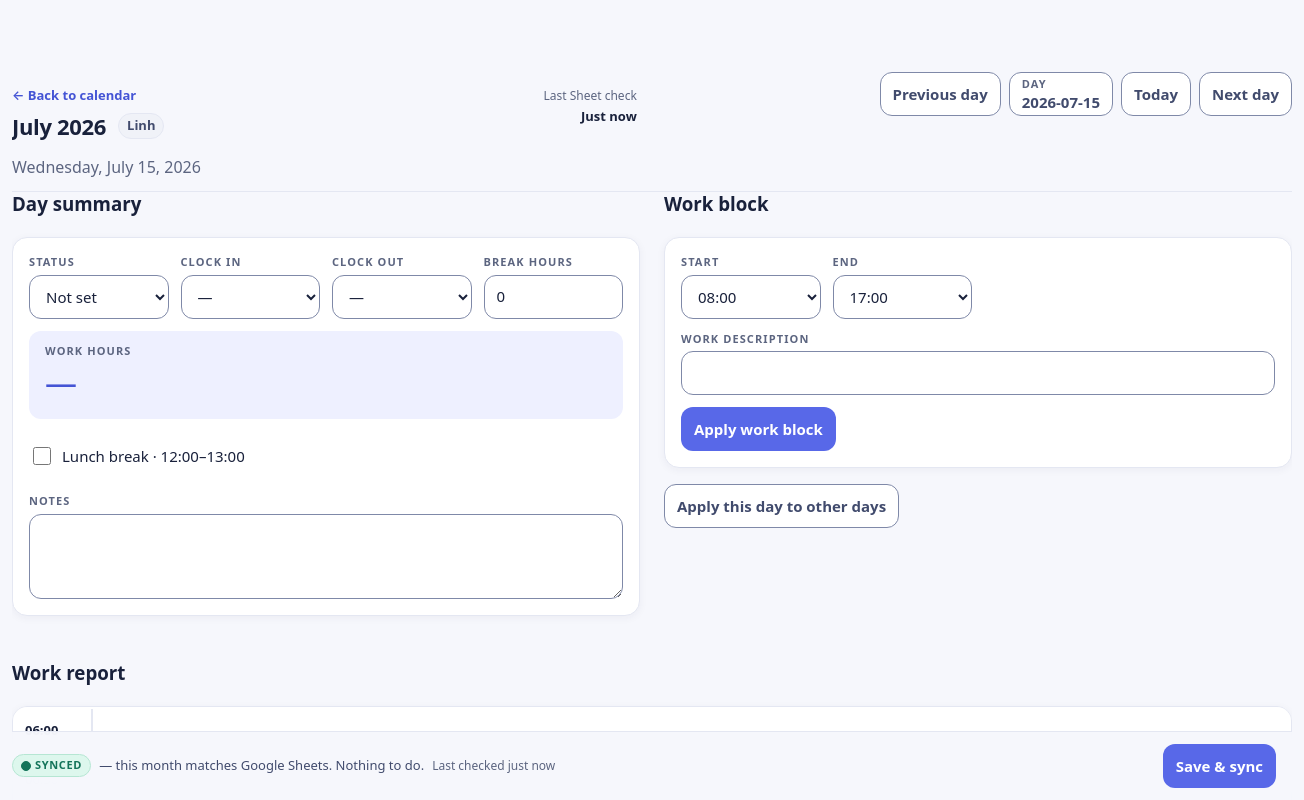
AttendanceEditor › moves to the next and previous day
This screenshot has width=1304, height=800.
Expected: the button "Save & sync" is shown, [1163,744,1276,788]
Click the button "Next day" at (1245, 94), box [1199,72,1292,116]
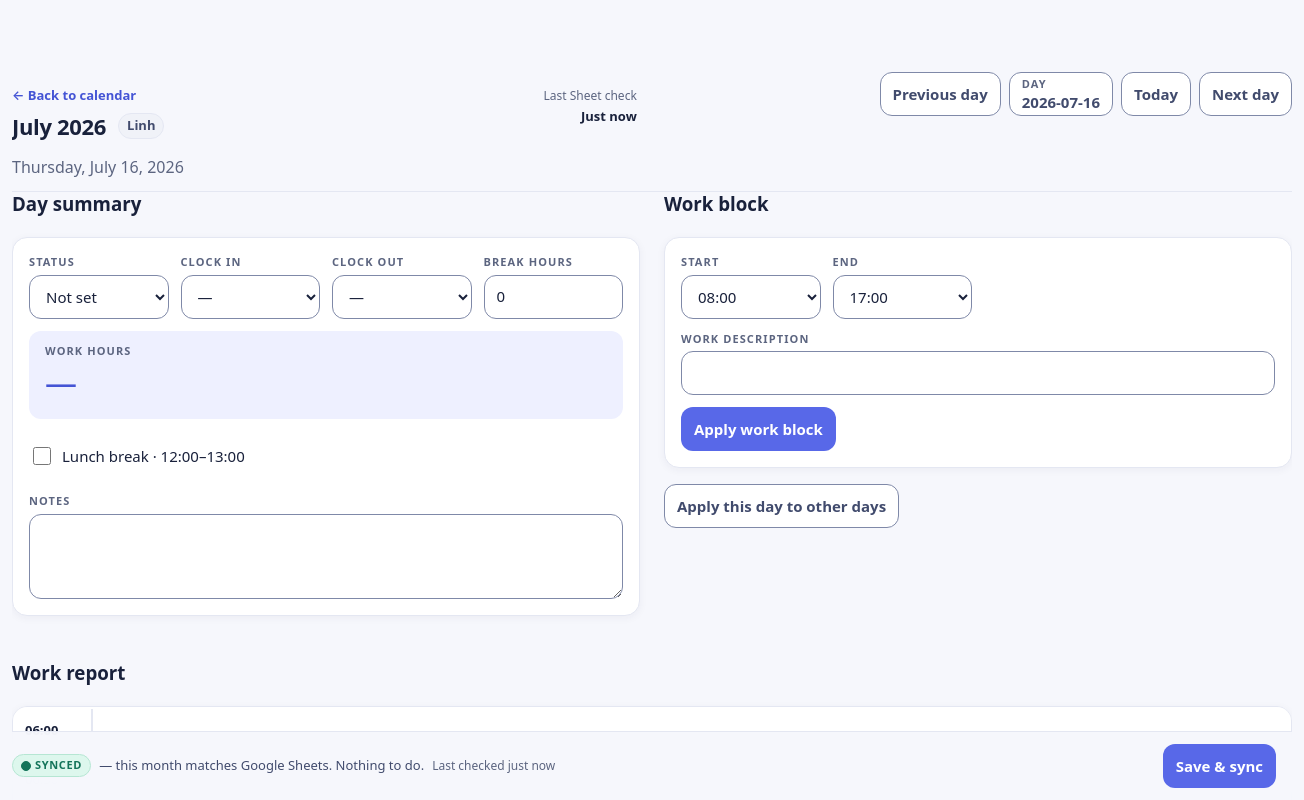
Result: the text "Thursday, July 16, 2026" is shown at [12,156,184,178]
Click the button "Previous day" at (940, 94), box [880,72,1001,116]
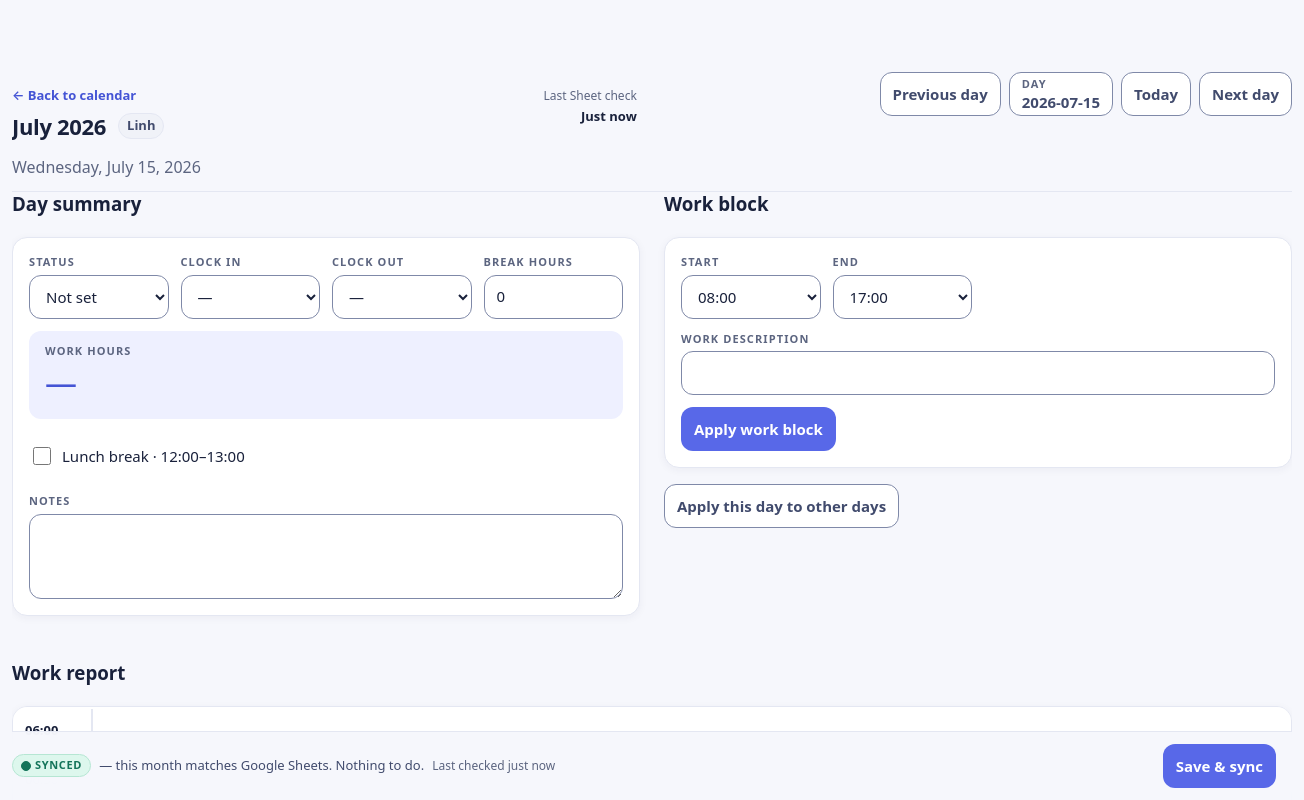
Result: the text "Wednesday, July 15, 2026" is shown at [12,156,201,178]
